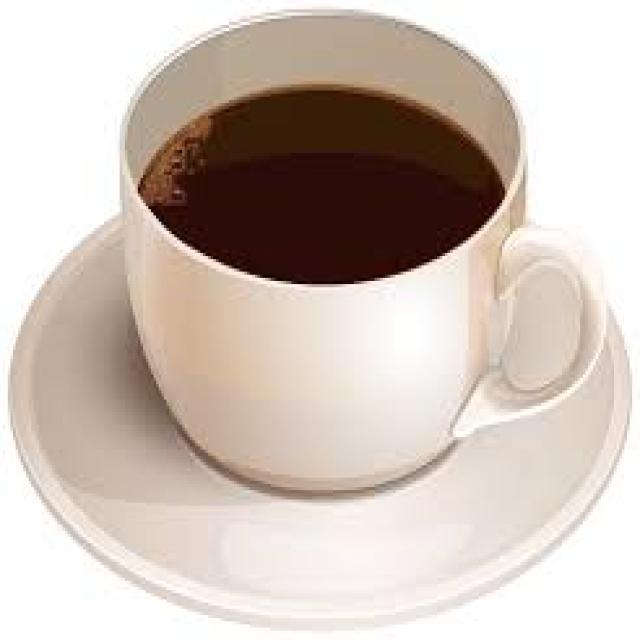taza: (108, 2, 612, 502)
